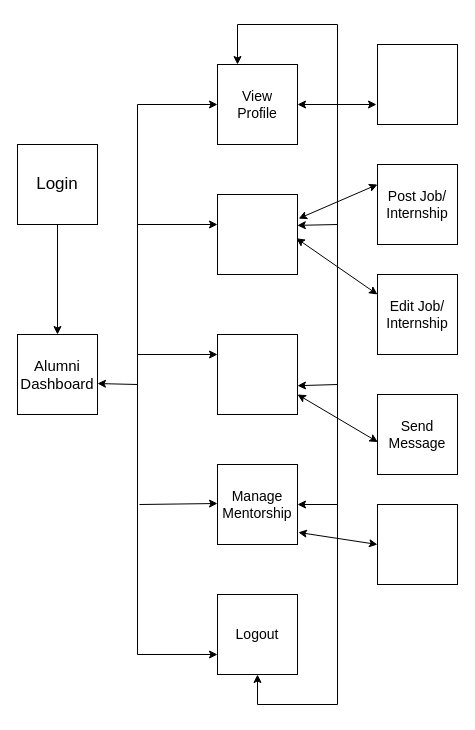
The diagram is 475 pixels wide and 730 high, and some of its shapes have lost their labels. Each missing label, with the centre of its shape:
Manage Jobs/ Internship: the point at 257,234
Networking: the point at 257,374
Schedule Session: the point at 417,544
Update Profile: the point at 417,84
